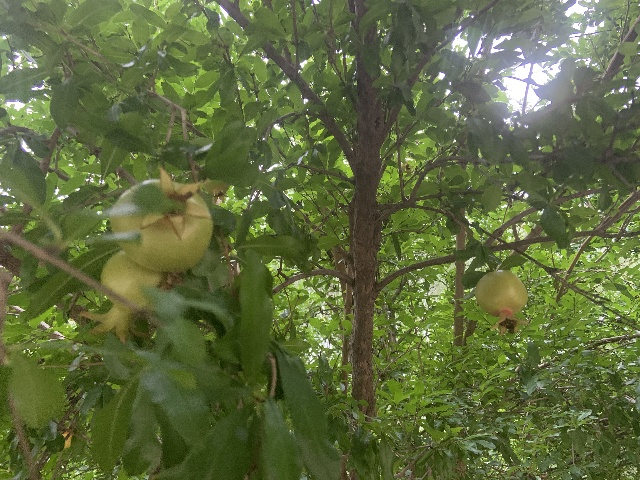mid-growth: (112, 168, 215, 279), (79, 251, 164, 343), (474, 270, 529, 336)
